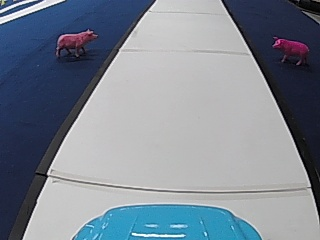pig: (54, 26, 96, 58), (270, 34, 310, 65)
